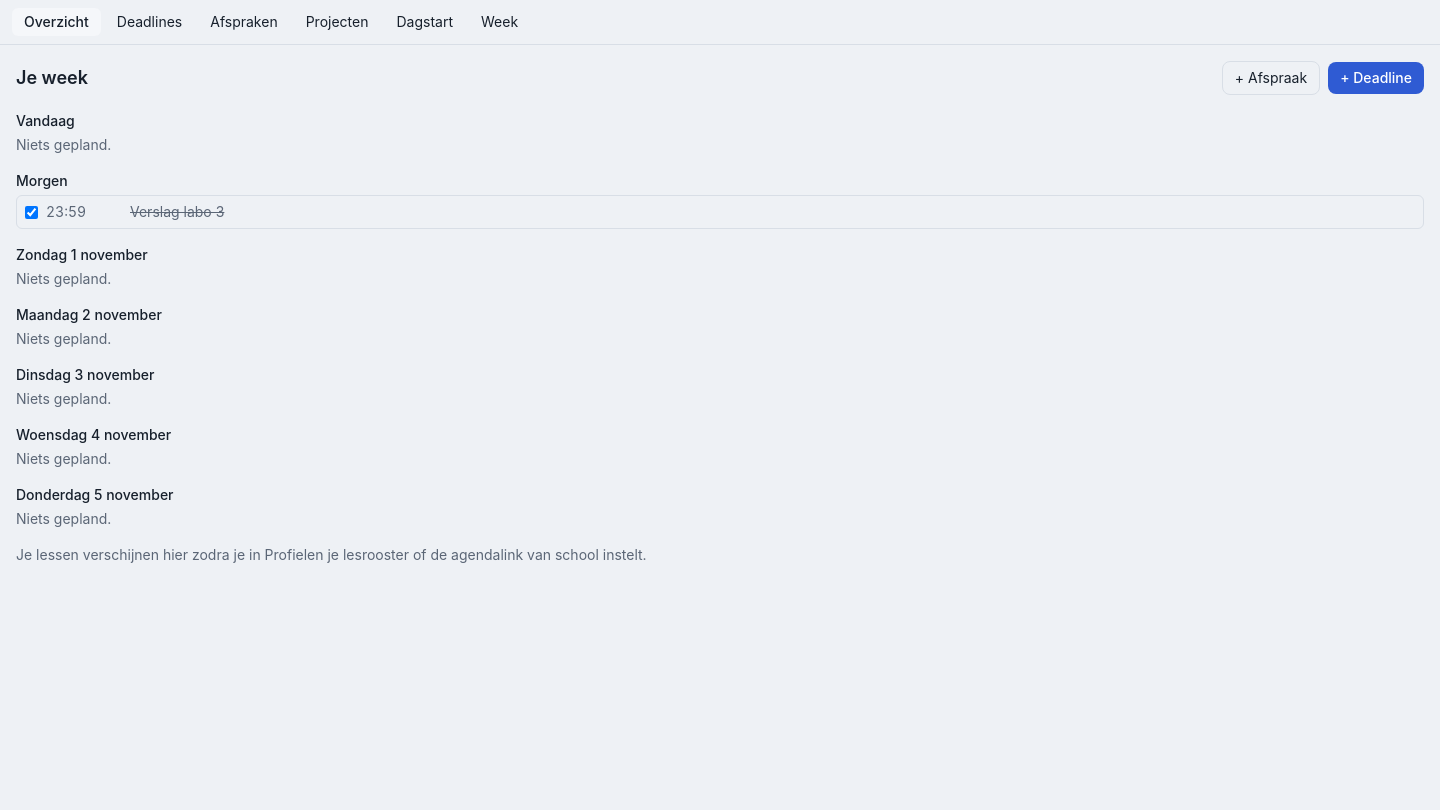
Scenario: Agenda › groups deadlines in projects with their progress
Step 1. Click the tab "Projecten" → (337, 22), box x1=294 y1=8 x2=380 y2=36
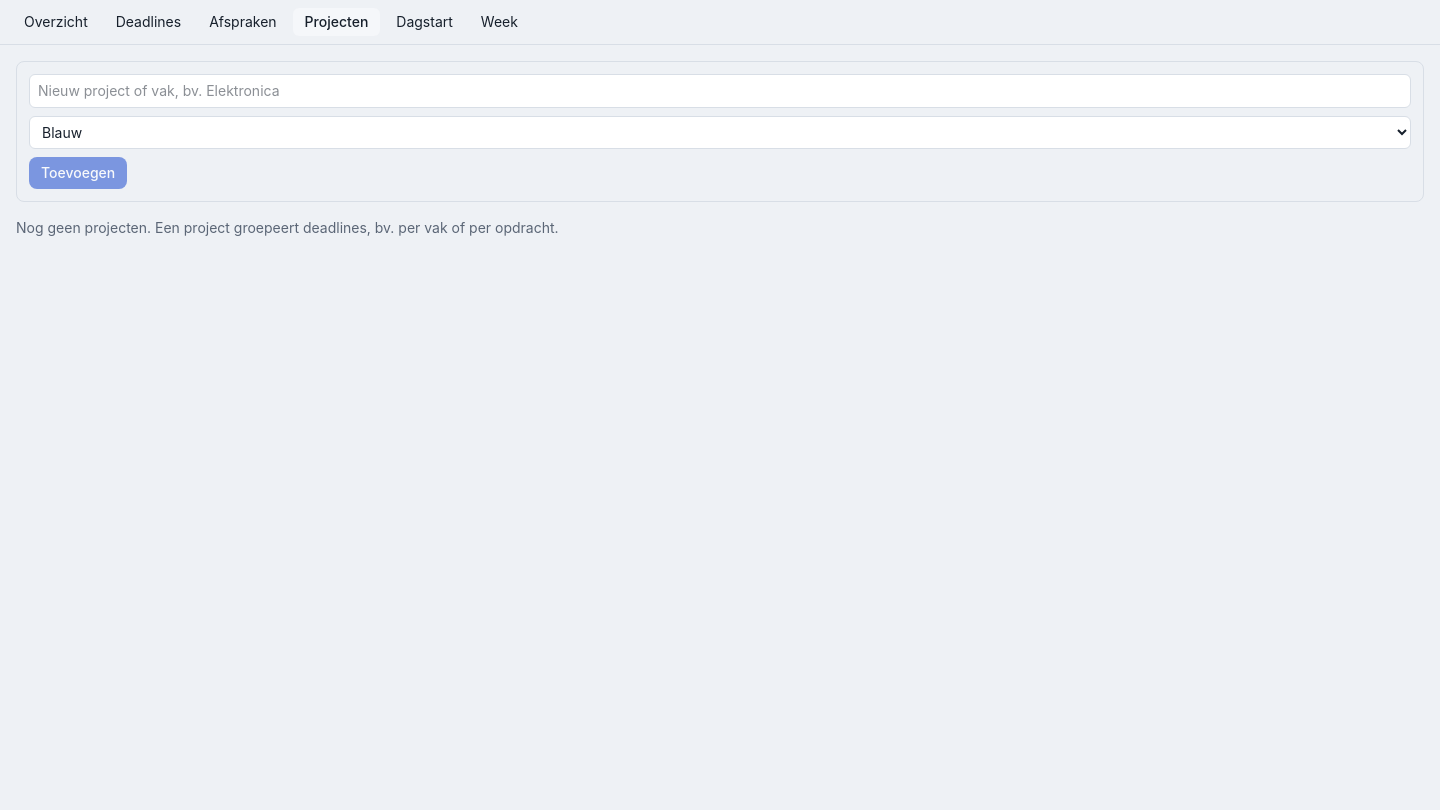
Step 2. Type "Elektronica" into the field named "Naam" → (720, 91), box x1=29 y1=74 x2=1411 y2=108
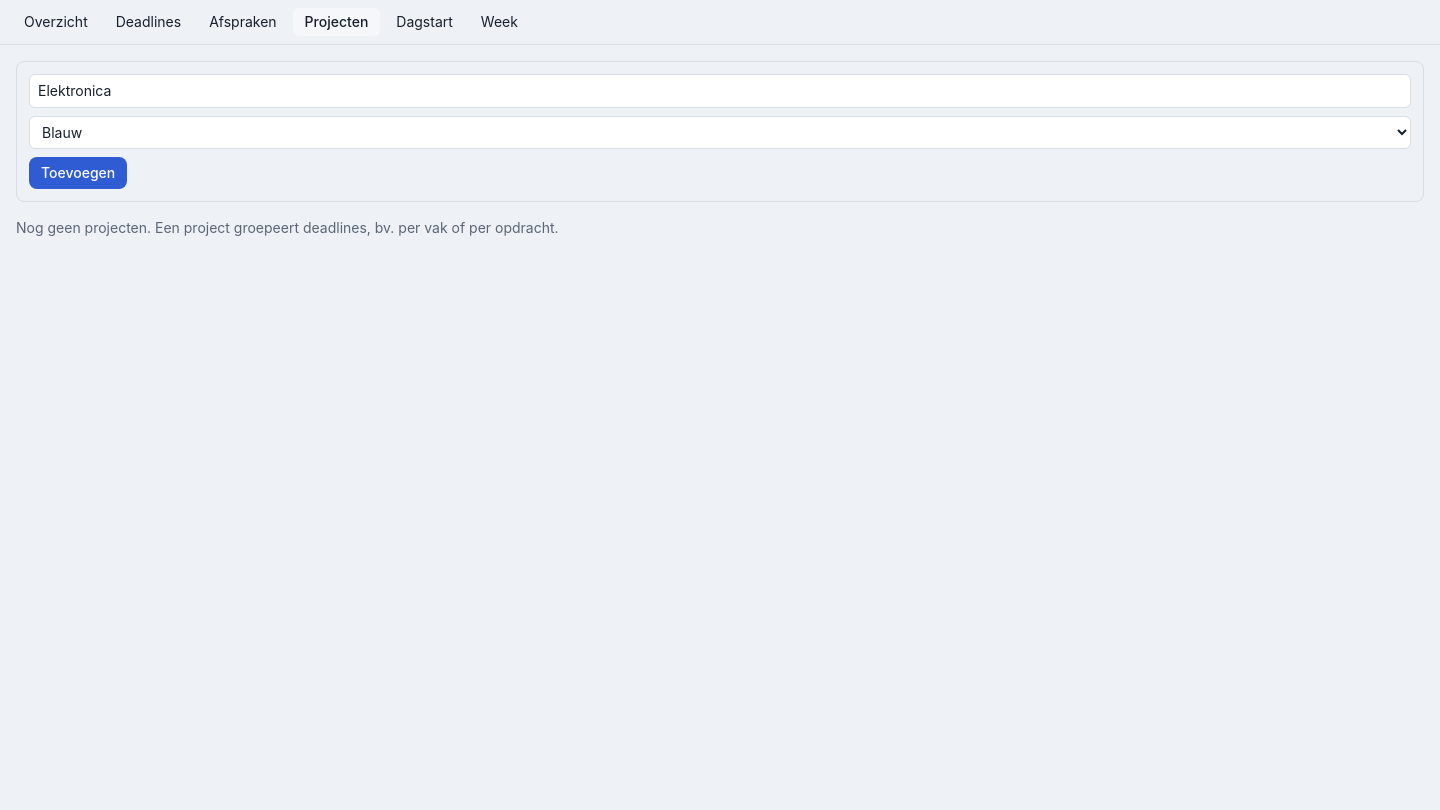
Step 3. Click the button "Toevoegen" → (78, 173), box x1=29 y1=157 x2=127 y2=189
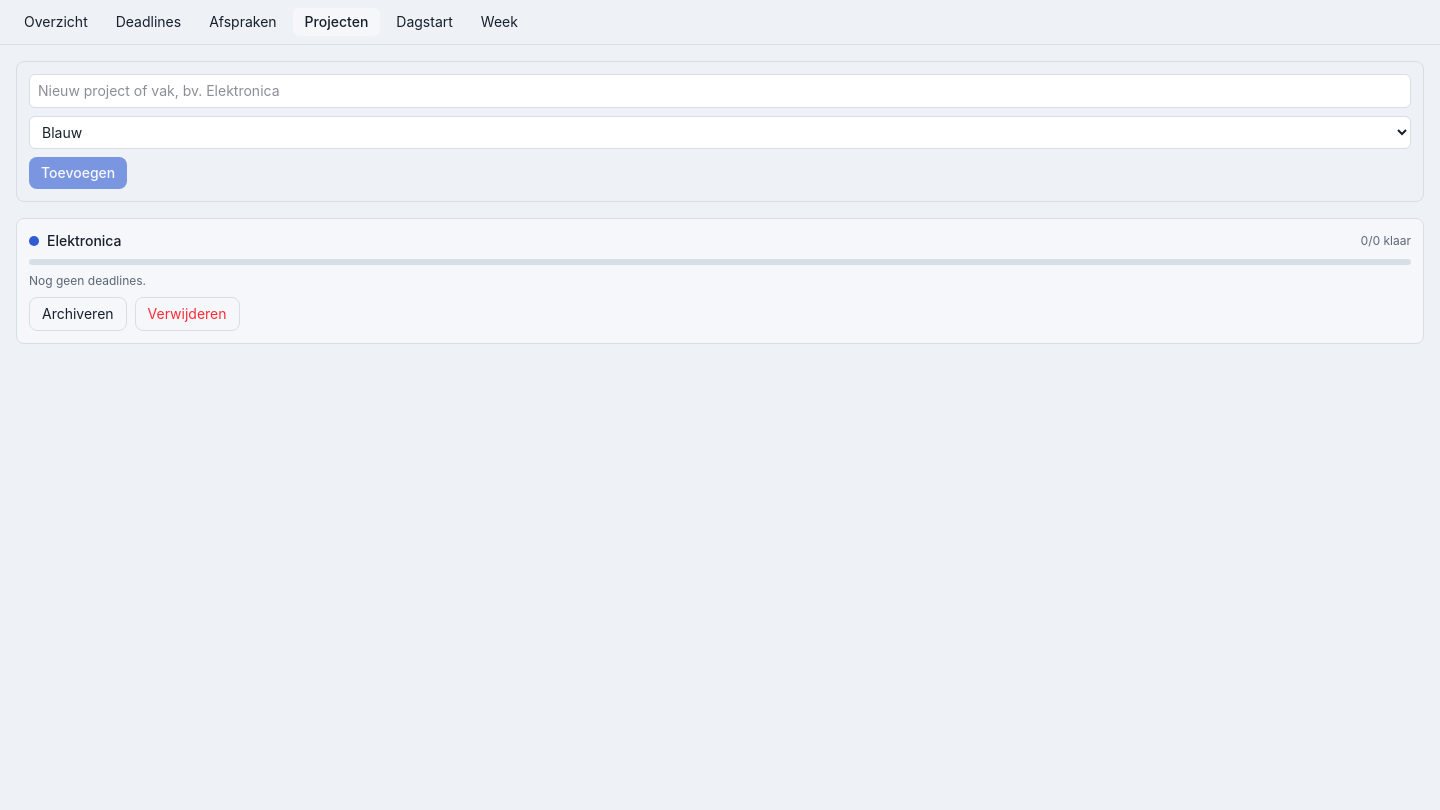
Check: the progress indicator named "Elektronica voortgang" is shown, box x1=29 y1=259 x2=1411 y2=265
Check: the text "0/0 klaar" is shown, box x1=1360 y1=233 x2=1411 y2=249
Check: the field named "Naam" is empty, box x1=29 y1=74 x2=1411 y2=108
